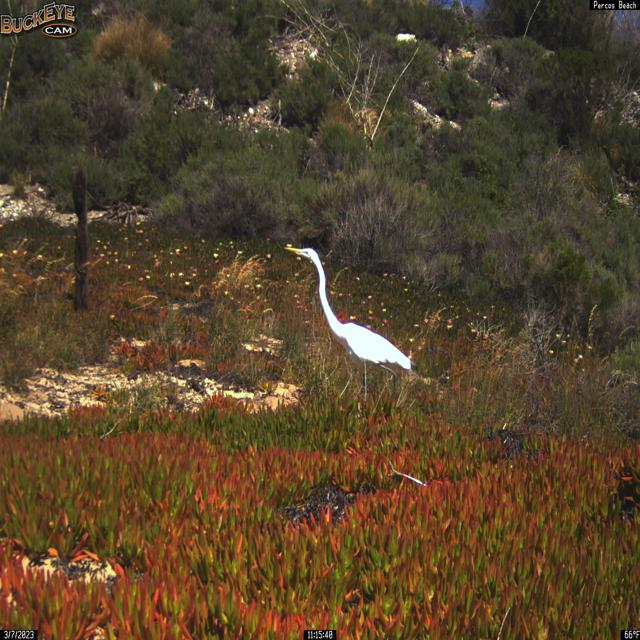bird: (282, 244, 417, 400)
